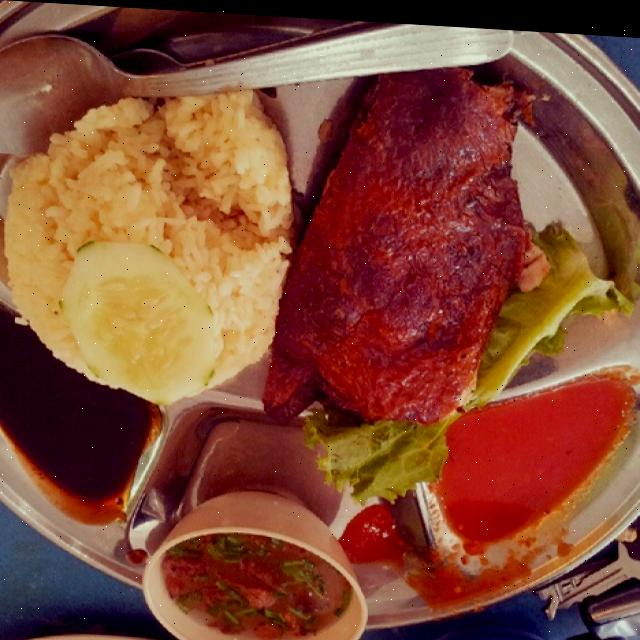米饭主食: (0, 12, 625, 640)
